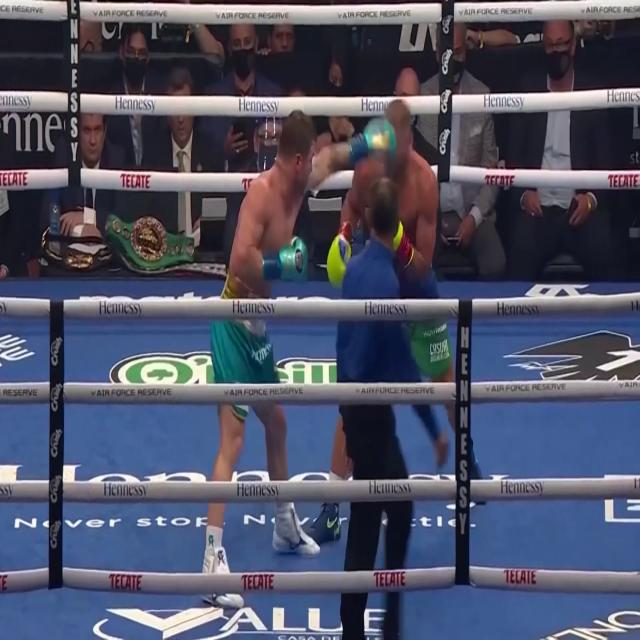boxer_1: (364, 98, 433, 309)
boxer_2: (223, 108, 315, 334)
gloves_1: (327, 221, 352, 286), (394, 221, 415, 266)
gloves_2: (263, 235, 308, 281), (350, 122, 398, 161)
